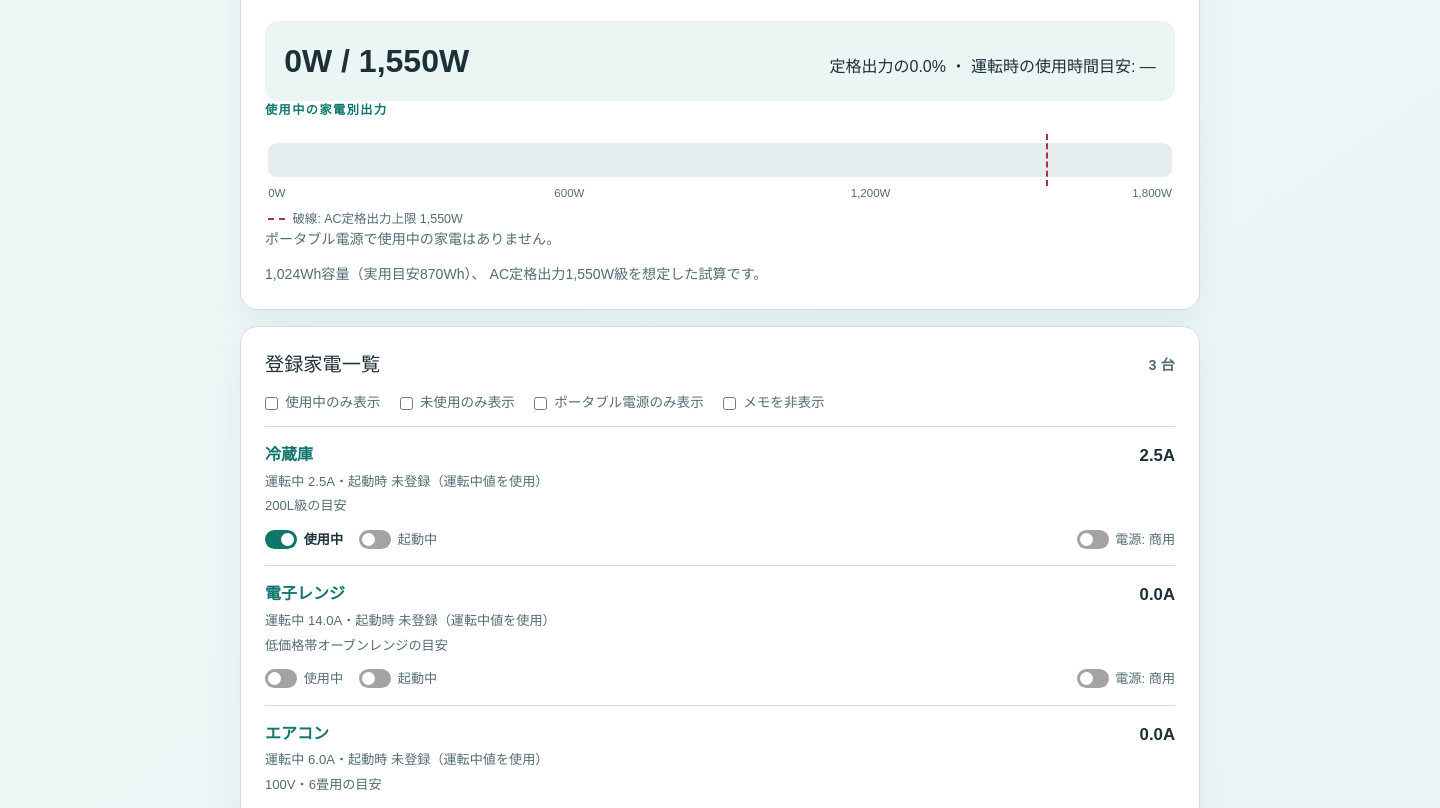
Test: Home › filters the appliance list to enabled appliances while keeping the registered count
The width and height of the screenshot is (1440, 808).
(page scrolled)
Expected: the heading "登録家電一覧" is shown, [265, 351, 380, 380]
Expected: the text "3 台" is shown, [1149, 355, 1175, 376]
Click the checkbox labelled "メモを非表示".
click(730, 403)  # box [723, 397, 736, 410]
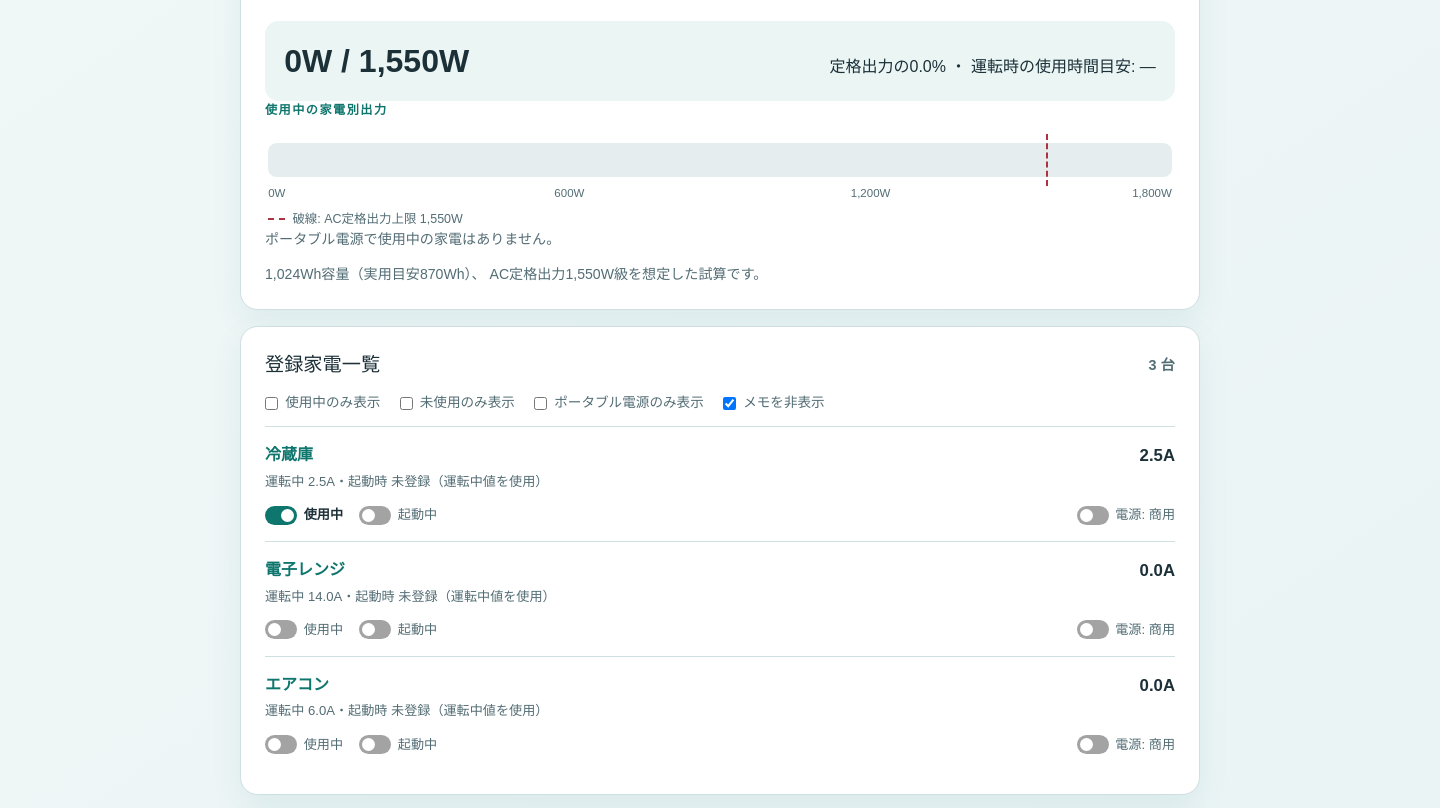
Expected: the text "200L級の目安" is gone
Click the checkbox labelled "メモを非表示".
click(730, 403)  # box [723, 397, 736, 410]
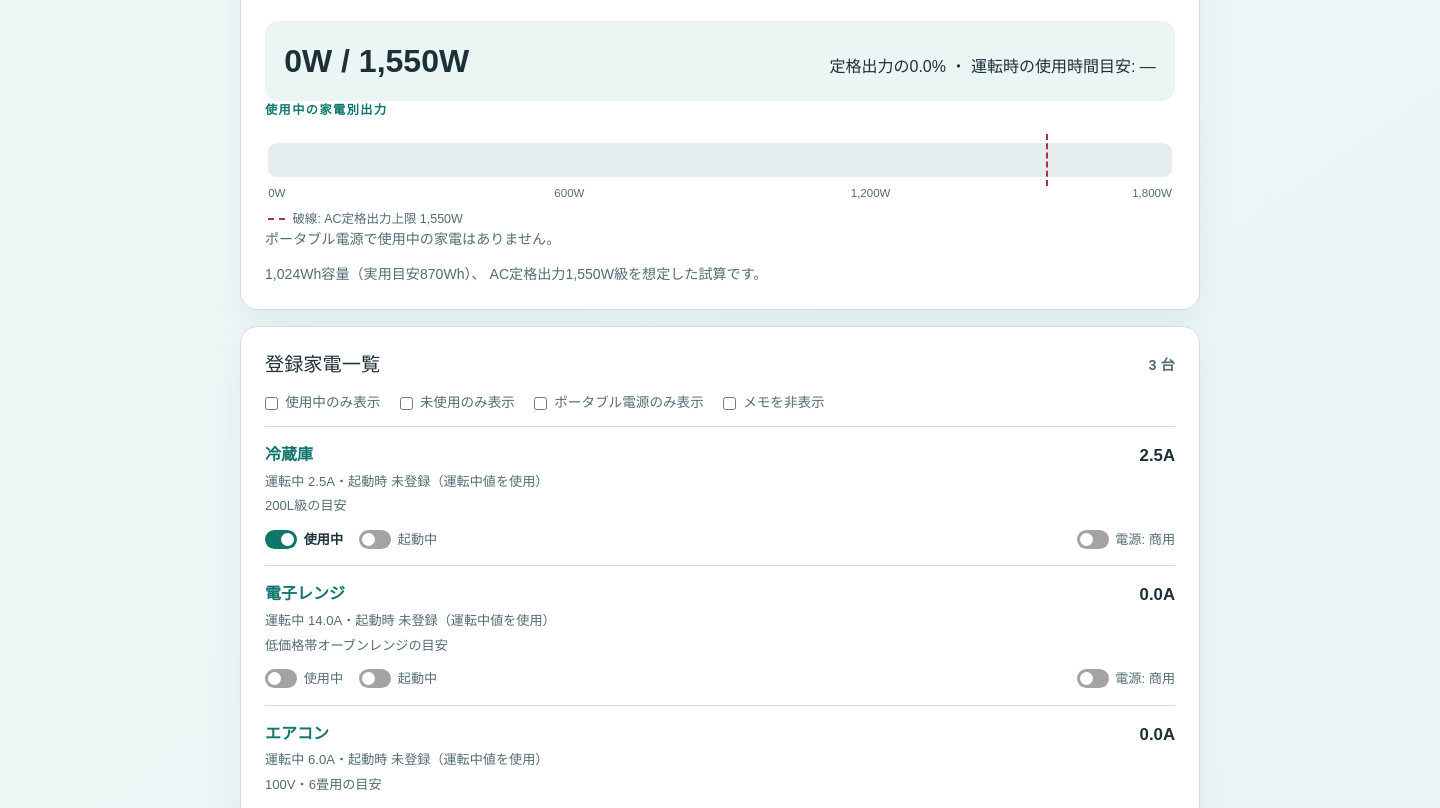
Expected: the text "200L級の目安" is shown, [265, 498, 347, 513]
Click the checkbox labelled "使用中のみ表示".
click(272, 403)  # box [265, 397, 278, 410]
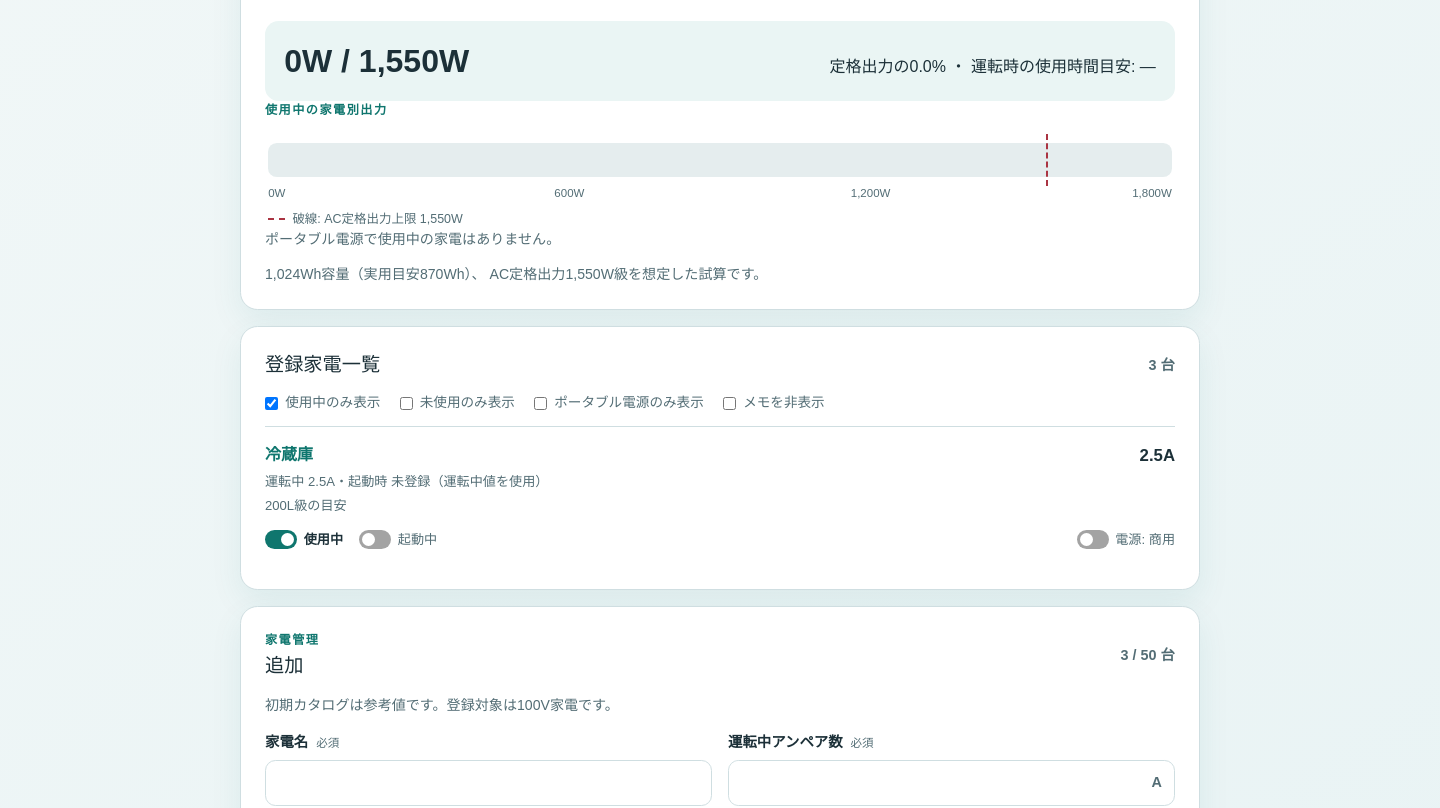
Expected: the heading "冷蔵庫" is shown, [265, 443, 313, 467]
Expected: the button "エアコン" is gone
Expected: the button "電子レンジ" is gone
Click the switch named "冷蔵庫を集計に含める".
click(304, 540)  # box [265, 530, 343, 549]
(page scrolled)
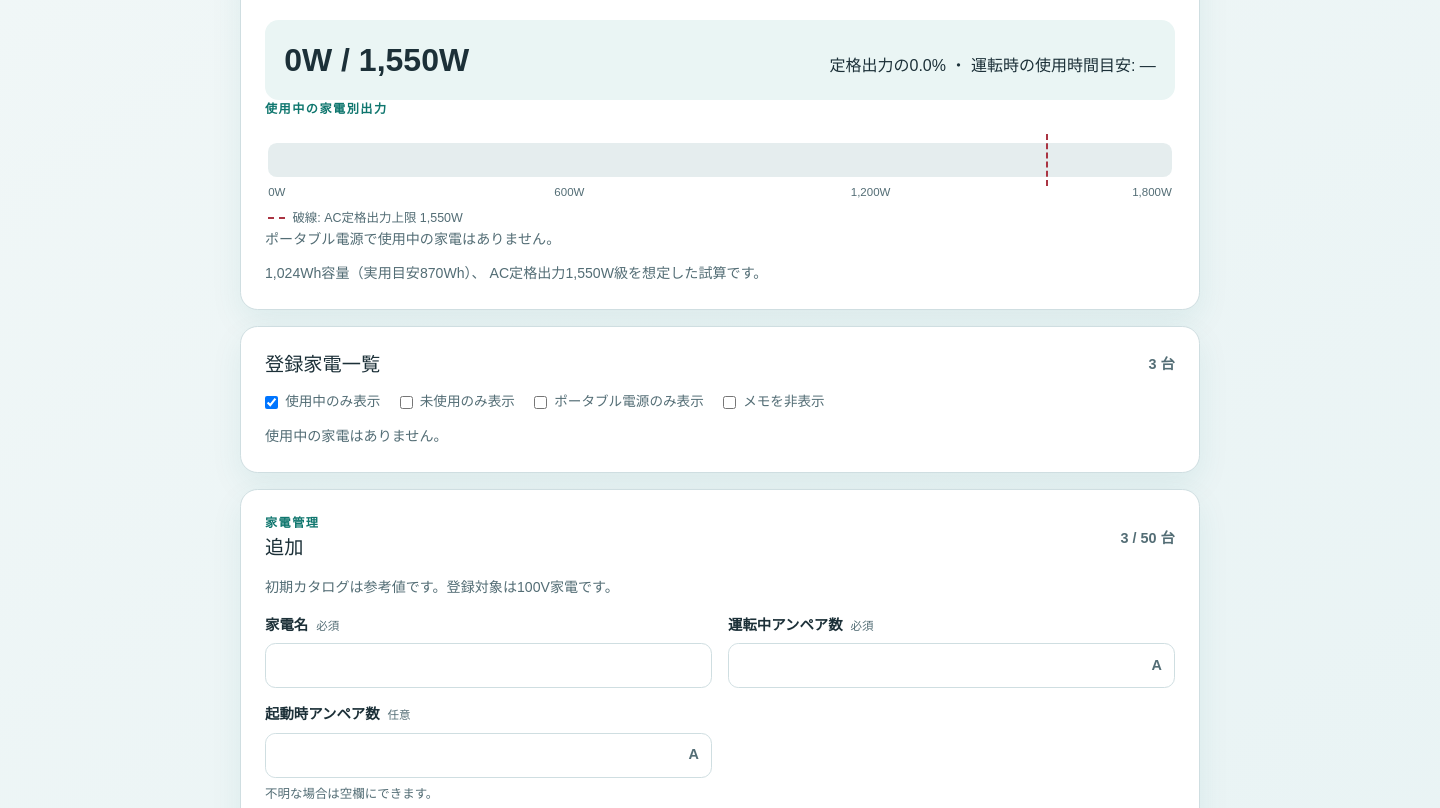
Expected: the text "3 台" is shown, [1149, 354, 1175, 376]
Expected: the message reads "使用中の家電はありません。", [265, 428, 448, 444]
Click the checkbox labelled "使用中のみ表示".
click(272, 402)  # box [265, 396, 278, 409]
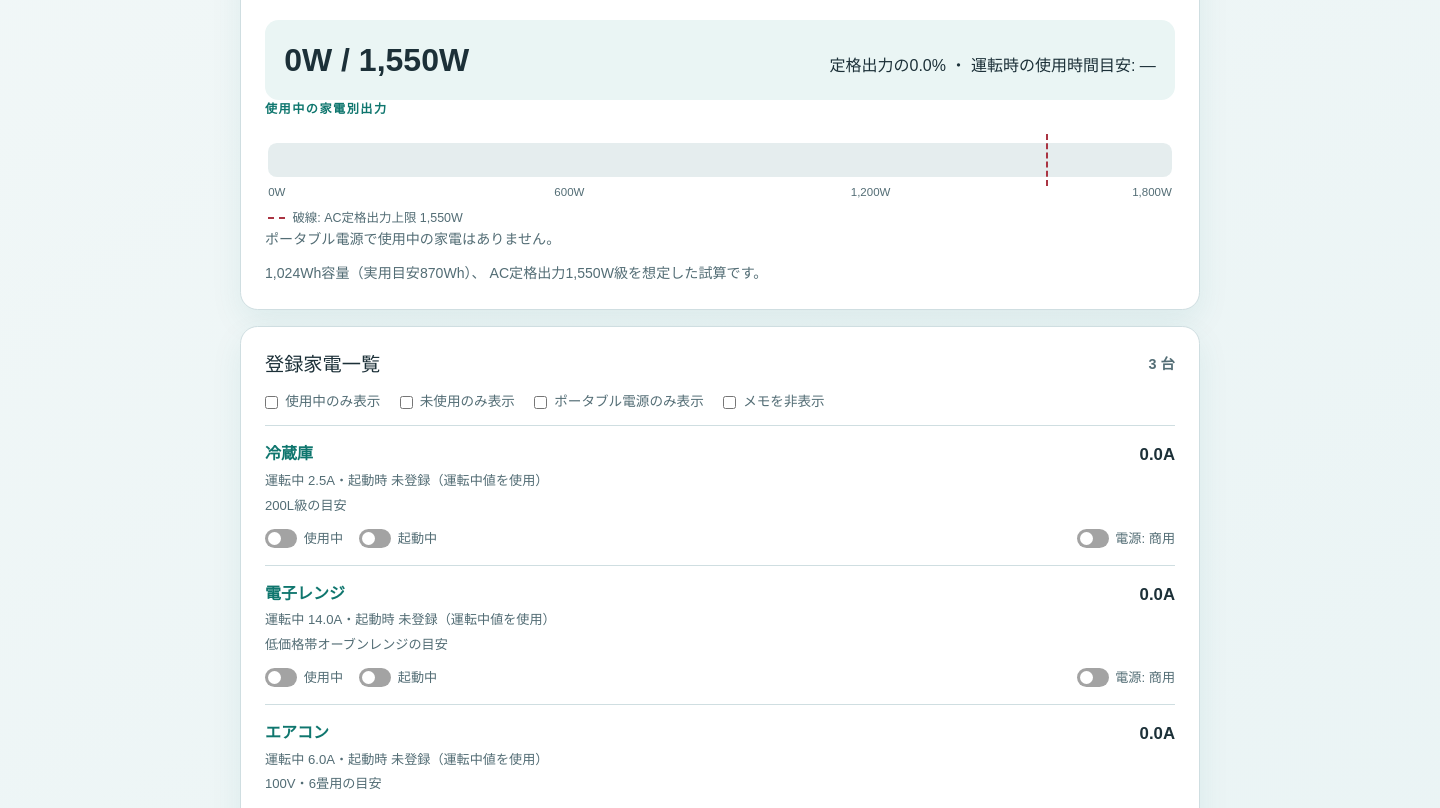
Expected: the heading "エアコン" is shown, [265, 721, 329, 745]
Expected: the heading "電子レンジ" is shown, [265, 582, 345, 606]
